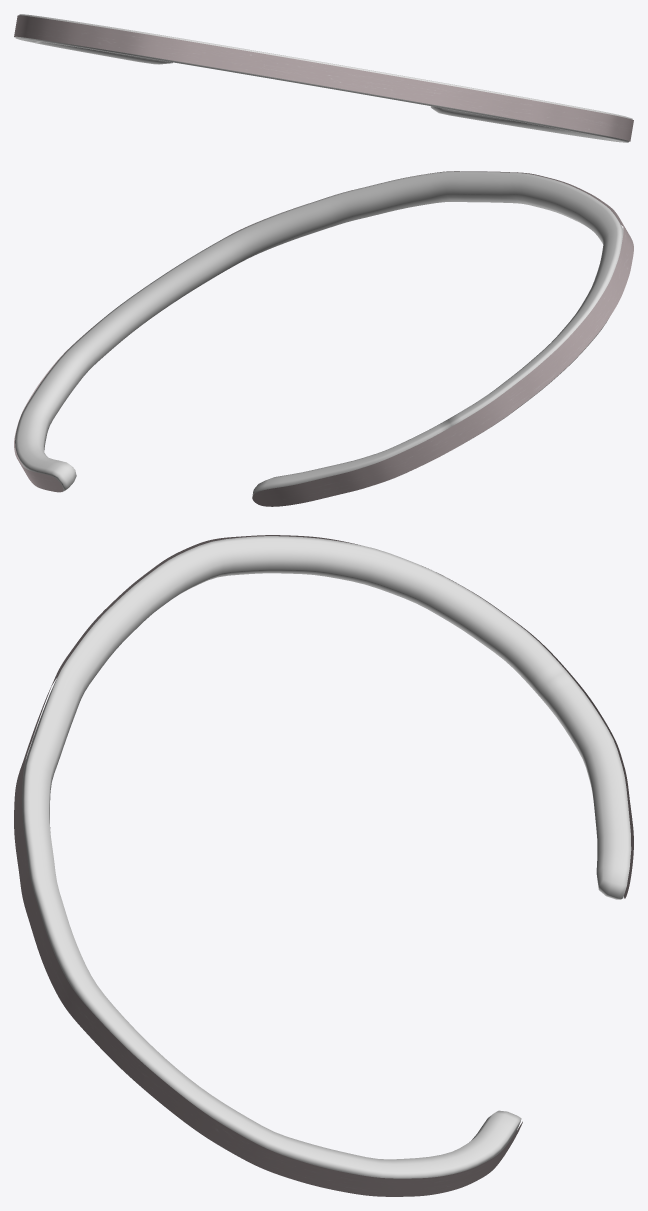
Rendered from sample4-bangle-silver.glb.
3 renders of one model, top to bottom at view 1: azimuth 30°, elevation 25°; view 2: azimuth 150°, elevation 25°; view 3: azimuth 270°, elevation 25°, orthographic. The views are drawn at different scales.
Parts seen in each view (by area): view 1: Vert.003, Vert; view 2: Vert, Vert.003; view 3: Vert, Vert.003.
Boxes of the visible parts, <box> form: Vert.003: <box>14,15,633,141</box>; Vert: <box>15,14,632,142</box>; Vert: <box>15,171,623,495</box>; Vert.003: <box>14,171,633,506</box>; Vert: <box>22,536,631,1178</box>; Vert.003: <box>14,535,633,1196</box>.
Size of the model in its own units: 2.73 by 1.31 by 2.07.
Materials: 2 (1 with a texture image).
